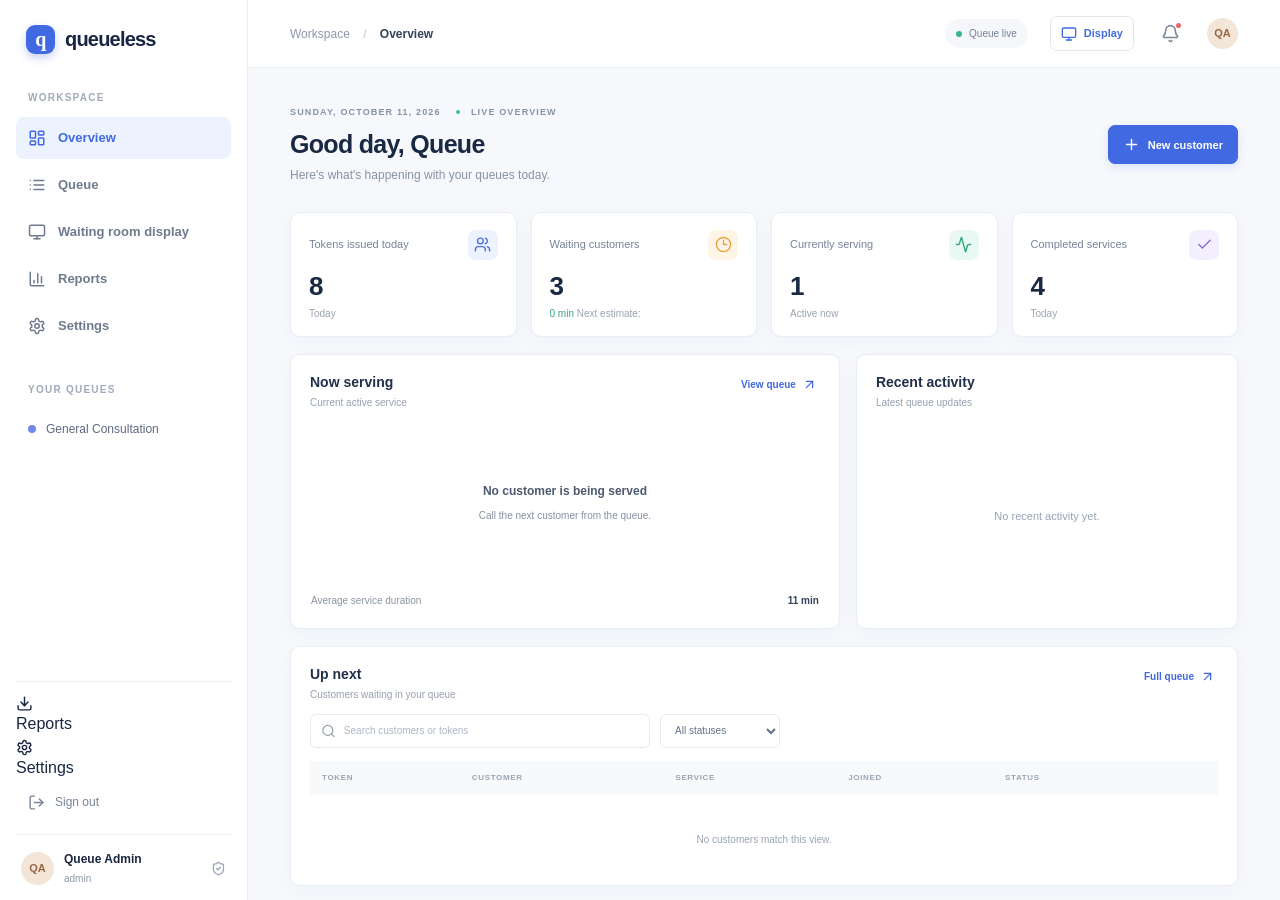
Test: QueueLess views › registers a customer and shows their private token link
Step 1. Click the button "New customer" → click(1173, 145), box [1108,125,1238,164]
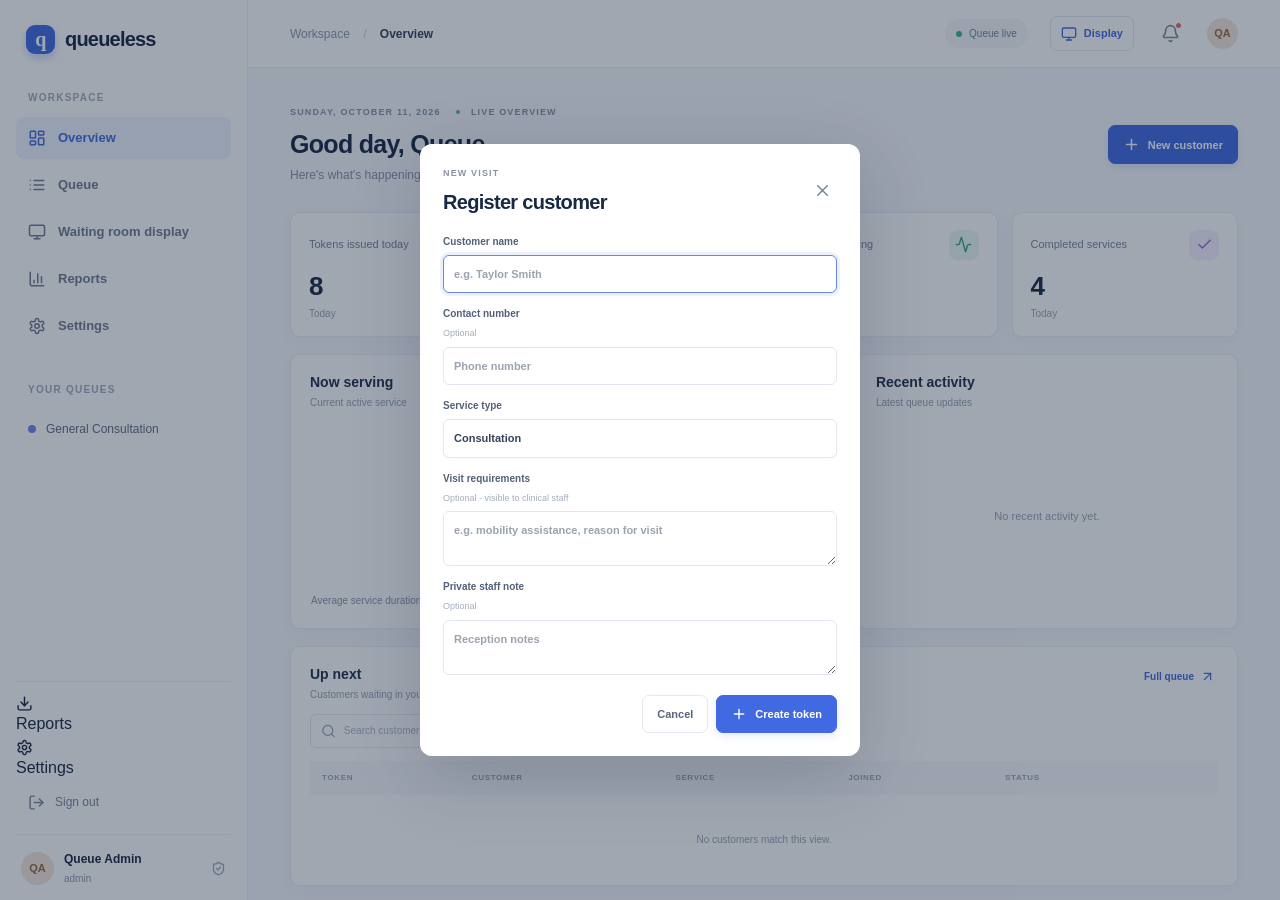
Step 2. Type "Taylor Smith" into the field labelled "Customer name" → (640, 274), box [443,254,837,293]
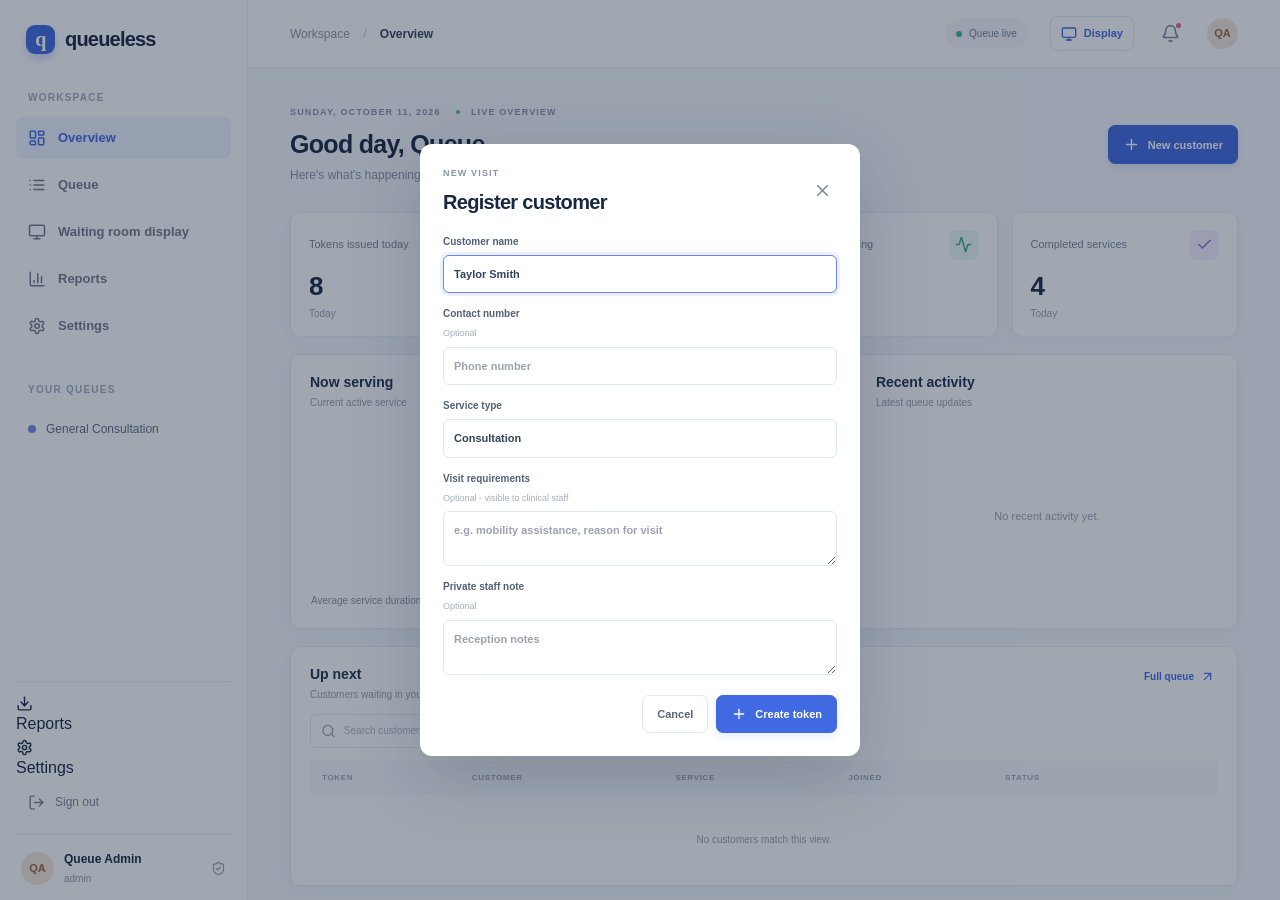
Step 3. Click the button "Create token" → click(777, 714), box [716,694,837,733]
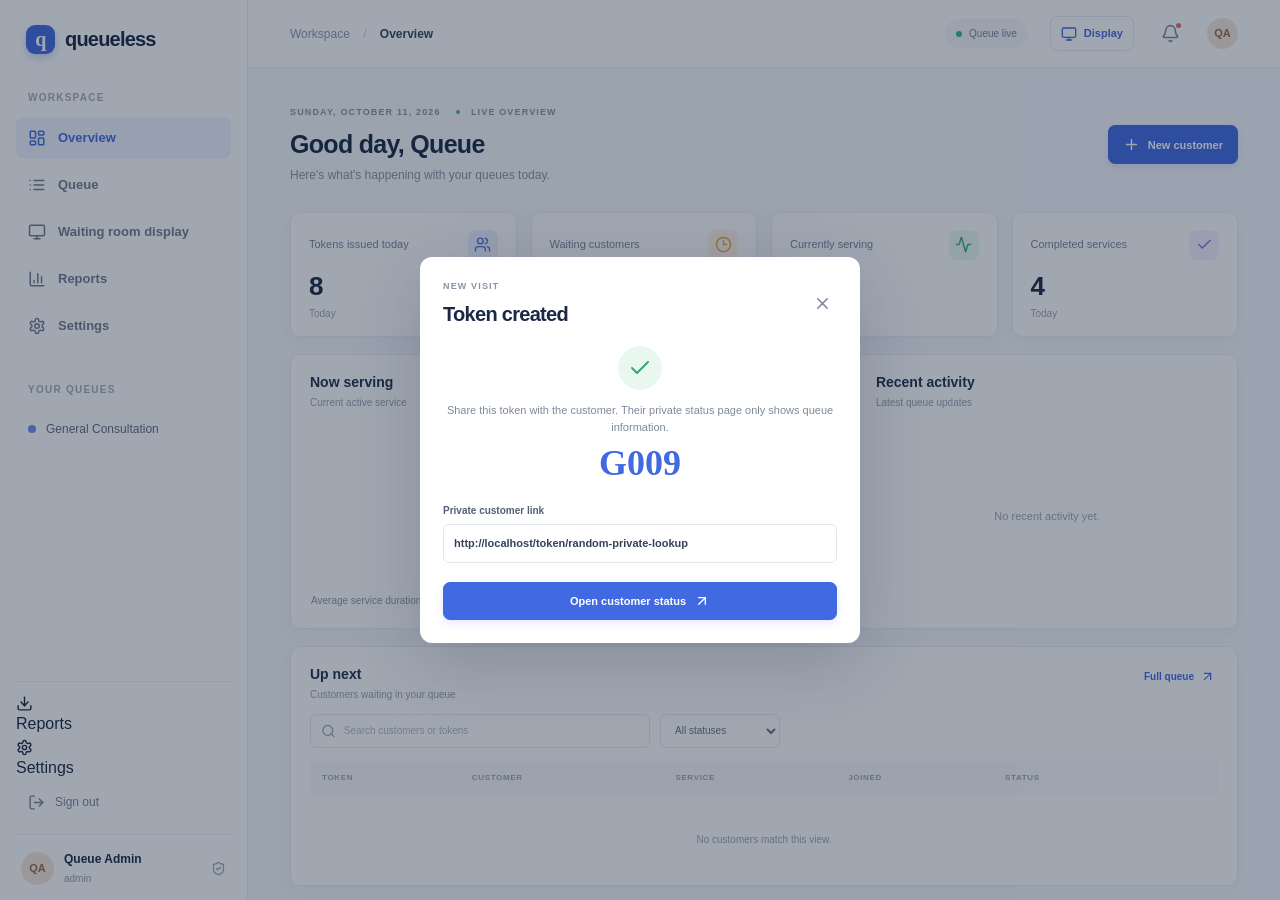
Check: the heading "Token created" is shown, box [443,303,568,326]
Check: the text "G009" is shown, box [599,443,681,483]
Check: the field showing "random-private-lookup" is shown, box [443,524,837,563]
